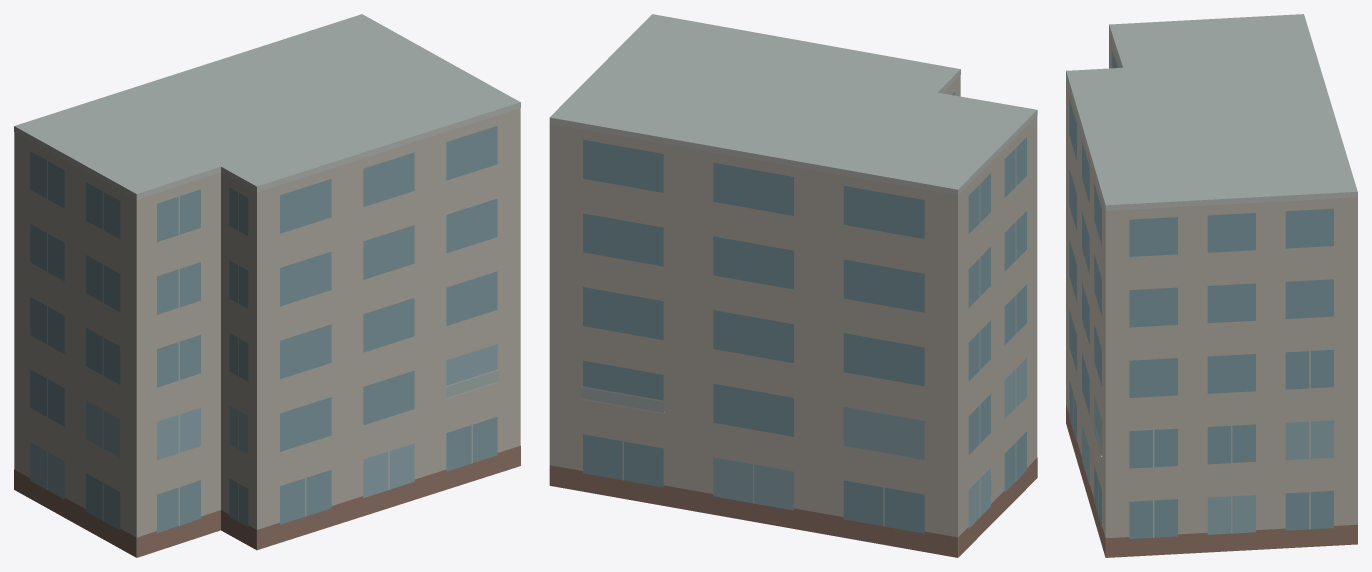
File: survey-upis-32716249.glb
3 renders of one model, left to right at view 1: azimuth 30°, elevation 25°; view 2: azimuth 150°, elevation 25°; view 3: azimuth 270°, elevation 25°, orthographic. The views are drawn at different scales.
Visible parts, largest first — view 1: survey-upis-32716249.tmp; view 2: survey-upis-32716249.tmp; view 3: survey-upis-32716249.tmp.
Boxes of the visible parts, x1=… form: survey-upis-32716249.tmp: x1=14, y1=14, x2=520, y2=557; survey-upis-32716249.tmp: x1=549, y1=14, x2=1037, y2=557; survey-upis-32716249.tmp: x1=1066, y1=14, x2=1357, y2=557.
Size of the model in its own units: 17.75 by 15.25 by 11.44.
